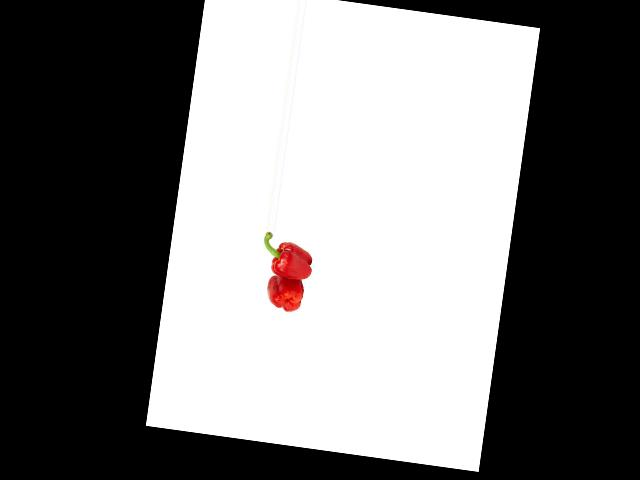bell_pepper: (262, 273, 307, 313)
